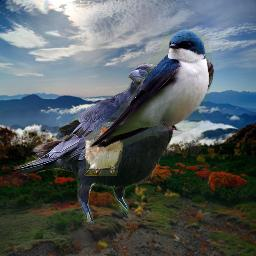Crow: (14, 63, 174, 224)
Swallow: (89, 29, 214, 149), (84, 122, 123, 176)
